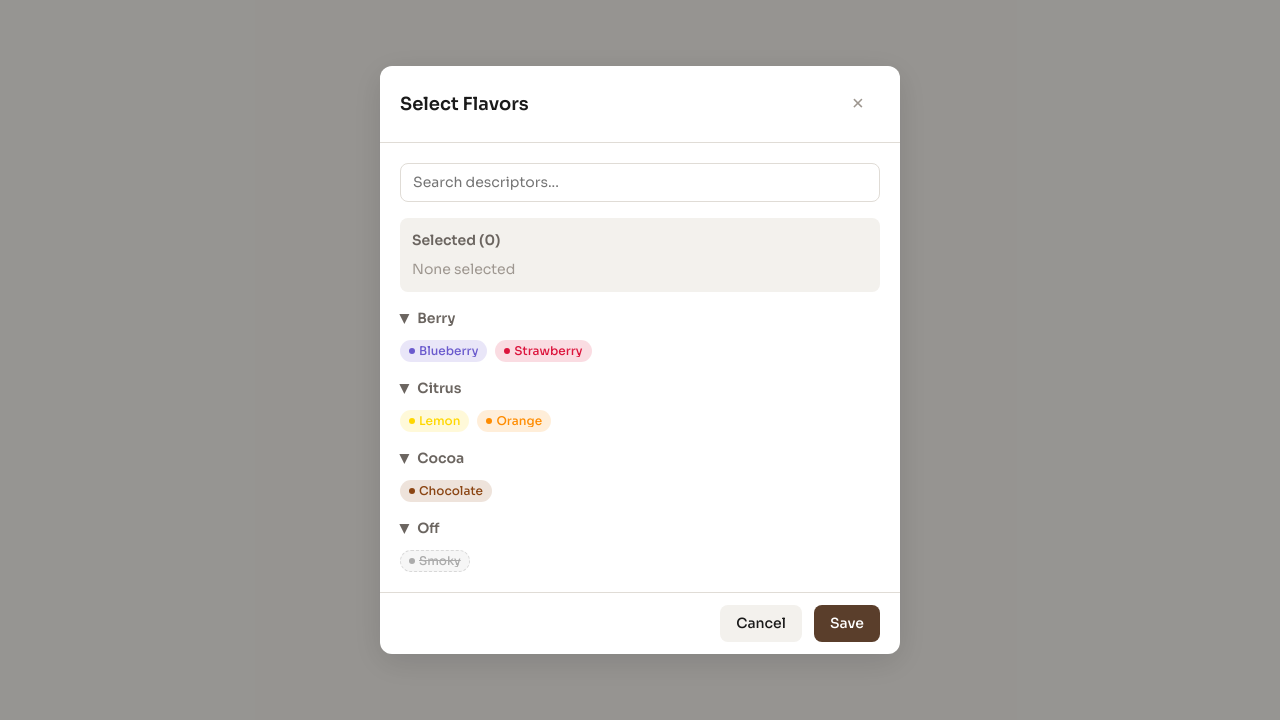
Scenario: FlavorPickerModal › filters descriptors by search text
Step 1. Type "blue" into the field labelled "Search descriptors" → point(640, 182), box top-left (400, 163), bottom-right (880, 202)
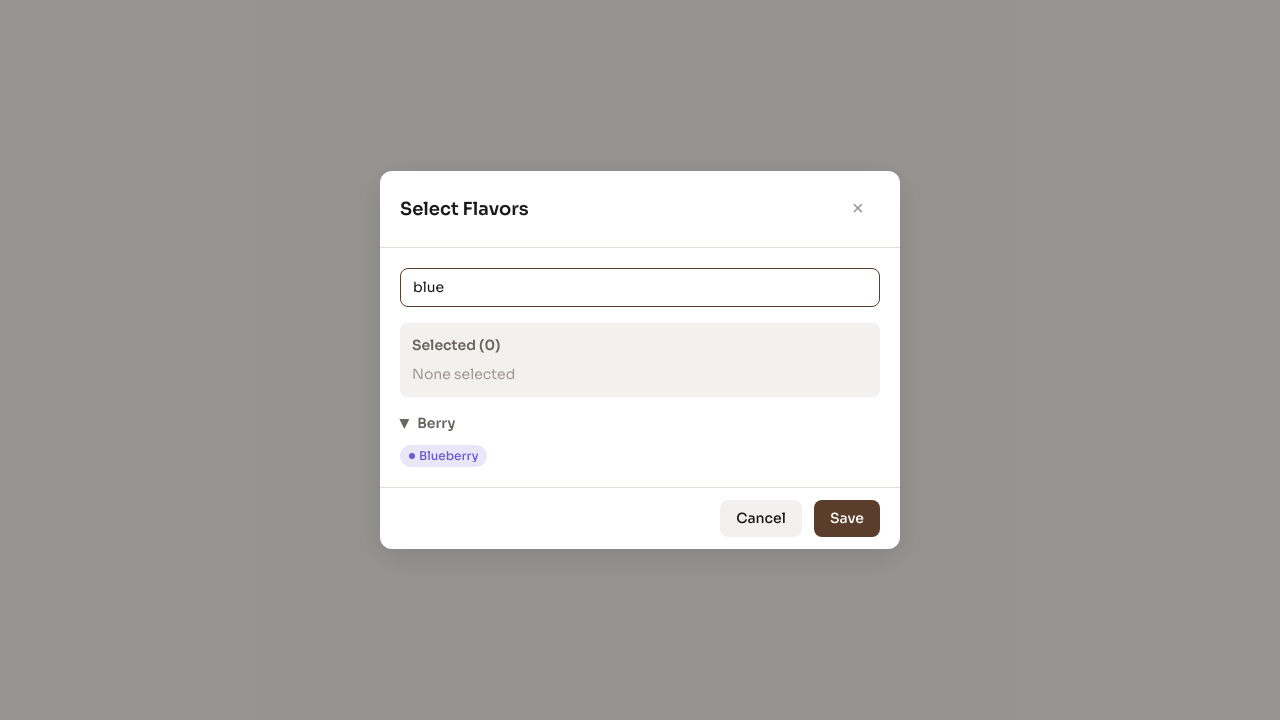
Check: the text "Blueberry" is shown, box top-left (419, 450), bottom-right (478, 462)
Check: the button "Strawberry" is gone
Check: the button "Lemon" is gone
